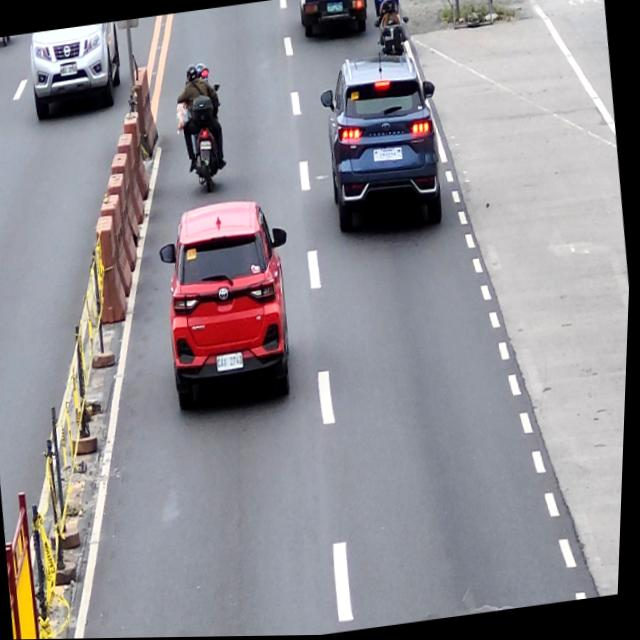Car: (151, 193, 310, 416), (312, 49, 452, 241)
License-Plate: (217, 350, 248, 373), (374, 148, 404, 164), (199, 139, 212, 150)
Motorcycle: (179, 83, 234, 193), (373, 14, 413, 60)
